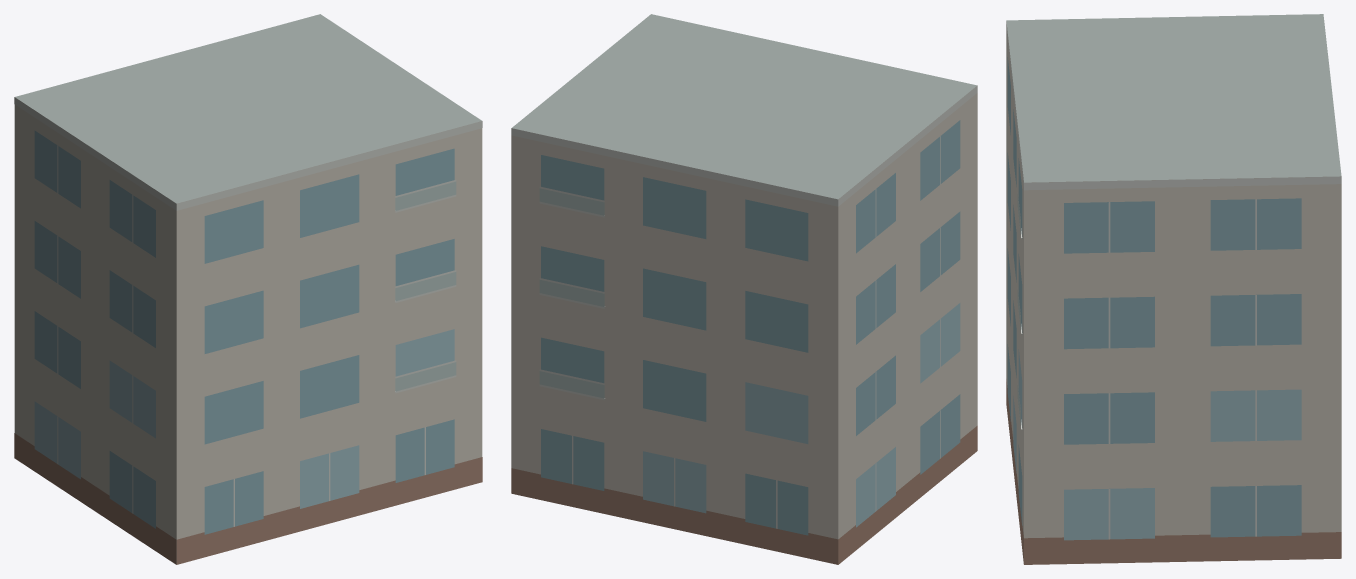
Rendered from residential-0864dead-115e-43ee-8df6-c0a828211795.glb.
3 views of the same model, side by side, from view 1: azimuth 30°, elevation 25°; view 2: azimuth 150°, elevation 25°; view 3: azimuth 270°, elevation 25° (orthographic). The views are drawn at different scales.
Visible parts, largest first — view 1: residential-0864dead-115e-43ee-8df6-c0a828211795.tmp; view 2: residential-0864dead-115e-43ee-8df6-c0a828211795.tmp; view 3: residential-0864dead-115e-43ee-8df6-c0a828211795.tmp.
Boxes of the visible parts, x1=… form: residential-0864dead-115e-43ee-8df6-c0a828211795.tmp: x1=14, y1=14, x2=482, y2=564; residential-0864dead-115e-43ee-8df6-c0a828211795.tmp: x1=511, y1=14, x2=977, y2=564; residential-0864dead-115e-43ee-8df6-c0a828211795.tmp: x1=1006, y1=14, x2=1341, y2=564.
Bounding box in the file's own units: 11.55 × 12.2 × 9.71.
